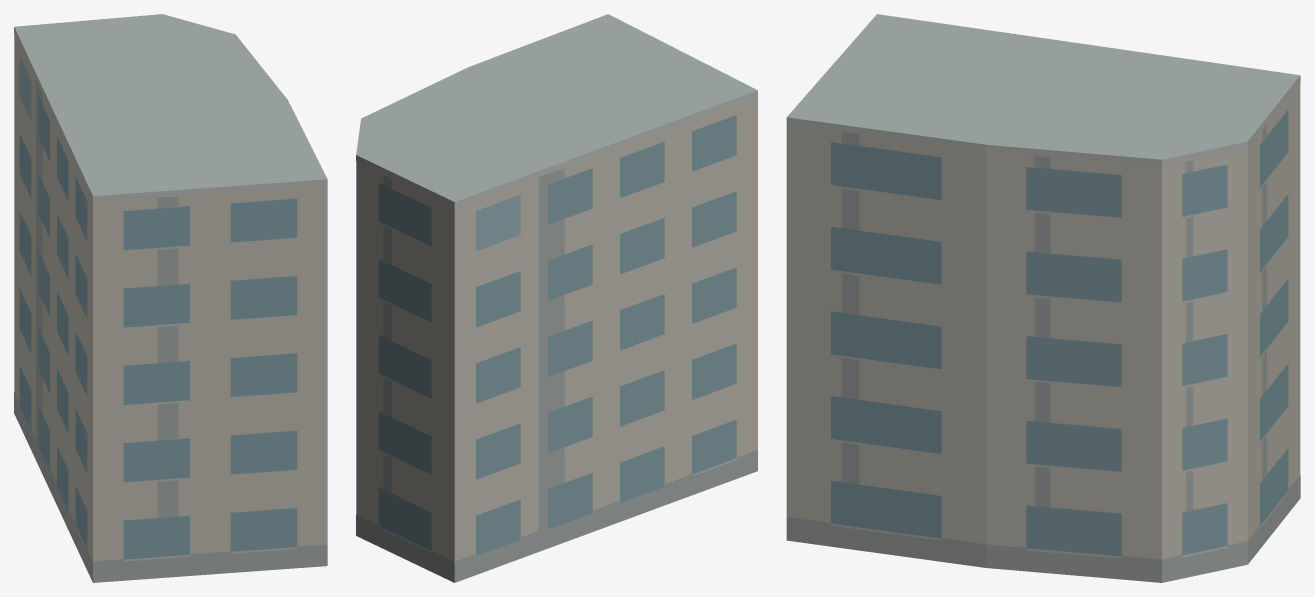
Rendered from survey-upis-32886816.glb.
The picture shows the model from 3 angles, left to right: view 1: azimuth 30°, elevation 25°; view 2: azimuth 150°, elevation 25°; view 3: azimuth 270°, elevation 25°; orthographic projection. The views are drawn at different scales.
Parts seen in each view (by area): view 1: survey-upis-32886816.tmp; view 2: survey-upis-32886816.tmp; view 3: survey-upis-32886816.tmp.
Boxes of the visible parts, box(x1,y1,x2,y2) form: survey-upis-32886816.tmp: box(14, 14, 327, 582); survey-upis-32886816.tmp: box(356, 14, 757, 582); survey-upis-32886816.tmp: box(786, 14, 1300, 582).
Size of the model in its own units: 10.79 by 14.6 by 16.07.
